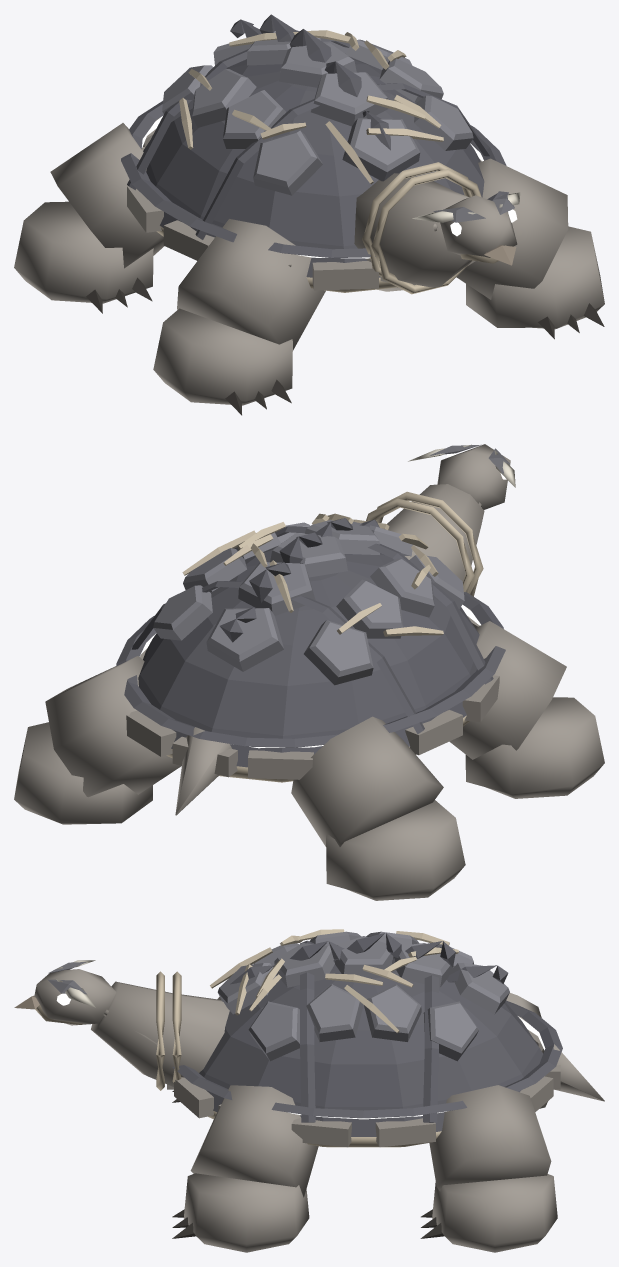
Rendered from tortoise-hundred-scar.glb.
3 renders of one model, top to bottom at view 1: azimuth 30°, elevation 25°; view 2: azimuth 150°, elevation 25°; view 3: azimuth 270°, elevation 25°, orthographic. The views are drawn at different scales.
Parts seen in each view (by area): view 1: tortoise_tortoise-hundred-scar; view 2: tortoise_tortoise-hundred-scar; view 3: tortoise_tortoise-hundred-scar.
Boxes of the visible parts, bbox=[...] form: tortoise_tortoise-hundred-scar: bbox=[14, 14, 604, 415]; tortoise_tortoise-hundred-scar: bbox=[14, 444, 604, 900]; tortoise_tortoise-hundred-scar: bbox=[14, 929, 604, 1252].
Bounding box in the file's own units: 0.8044 × 0.4583 × 1.07.
